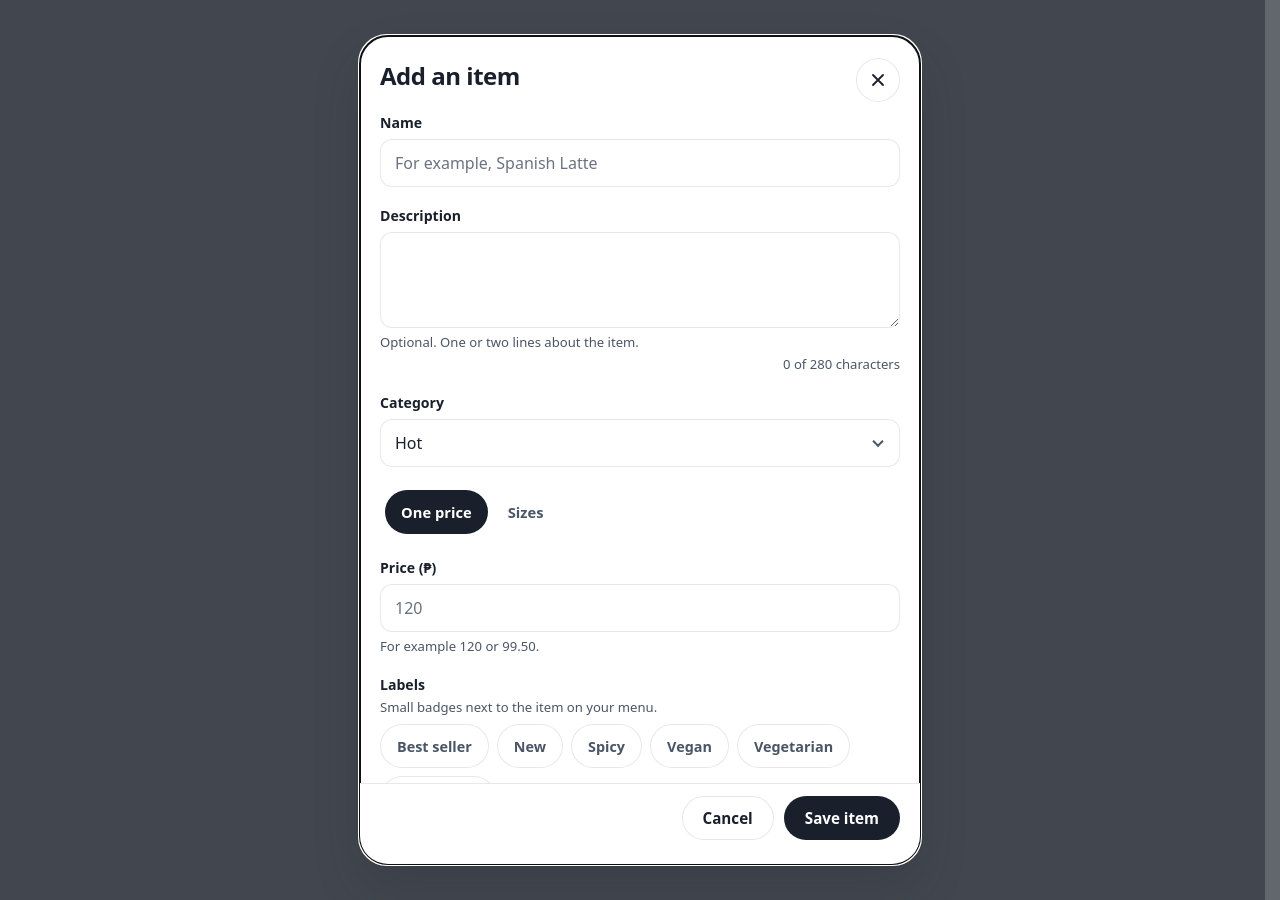
Test: ProductEditor: what it refuses › focuses the price of the size whose price cannot be read, not the first size
In the field labelled "Name": (640, 163) [380, 139, 900, 187], type "Tea"
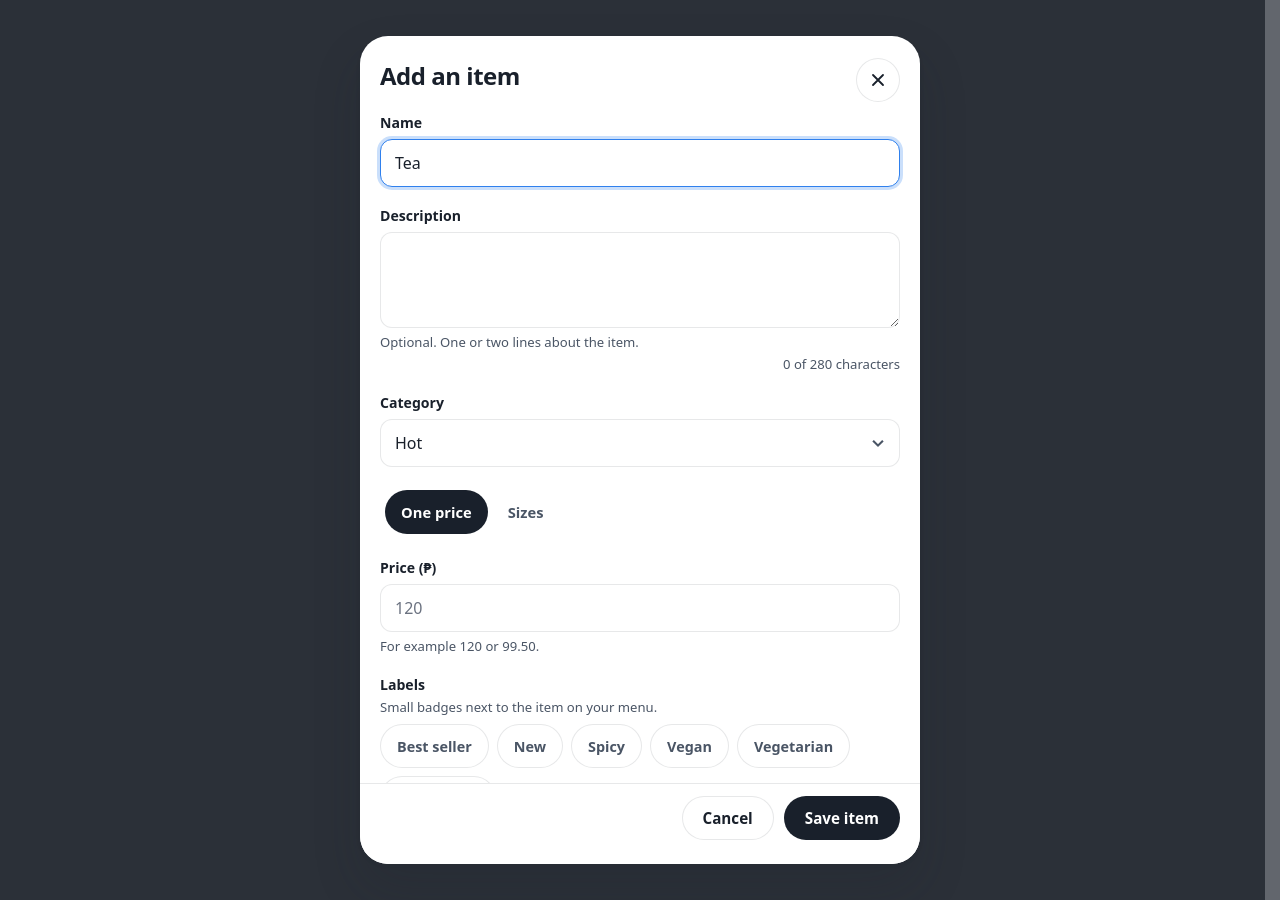
Click the button "Sizes": click(526, 512) [492, 490, 560, 534]
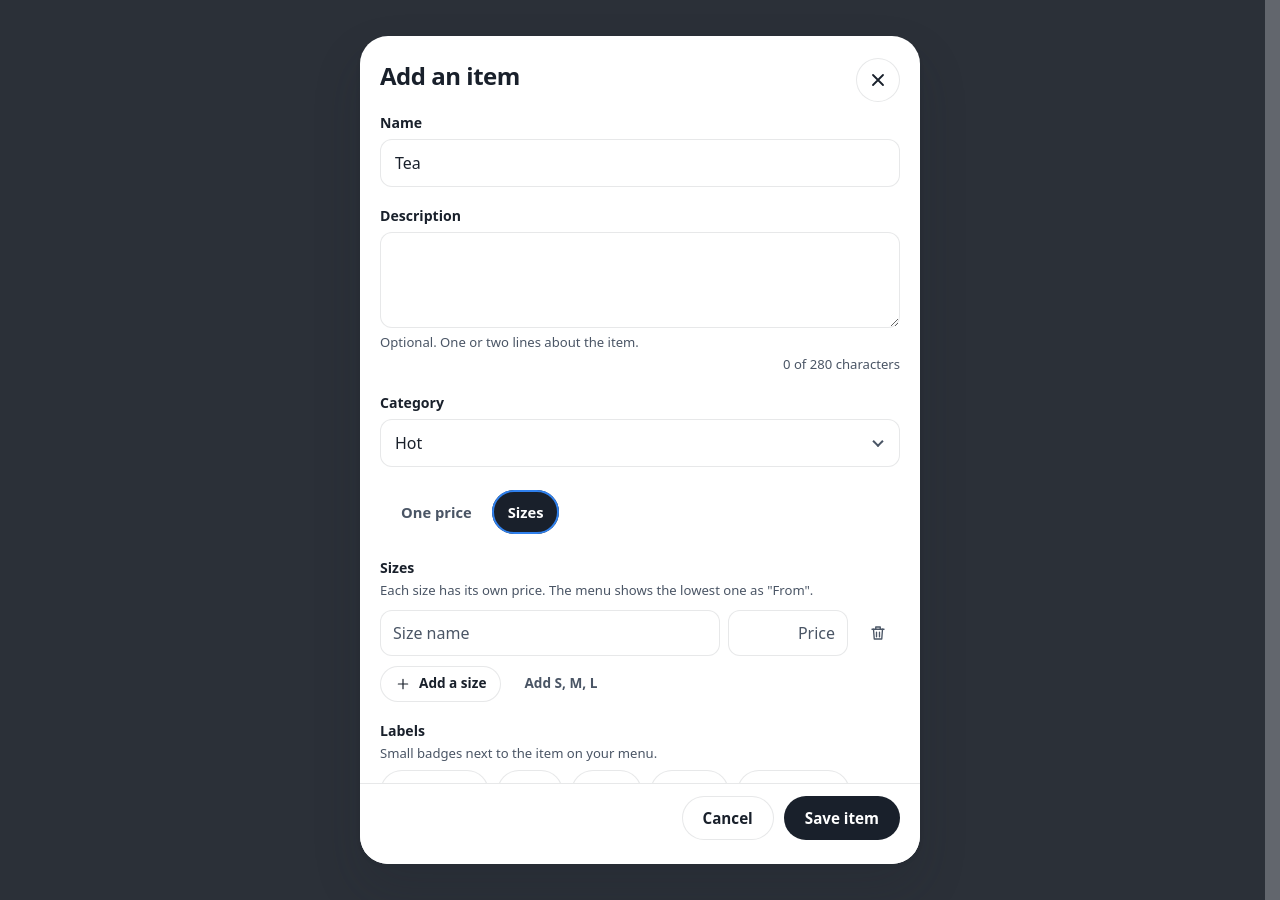
In the field named "Name of size 1": (550, 633) [380, 610, 720, 656], type "S"
In the field named "Price of size 1 (₱)": (788, 633) [728, 610, 848, 656], type "50"
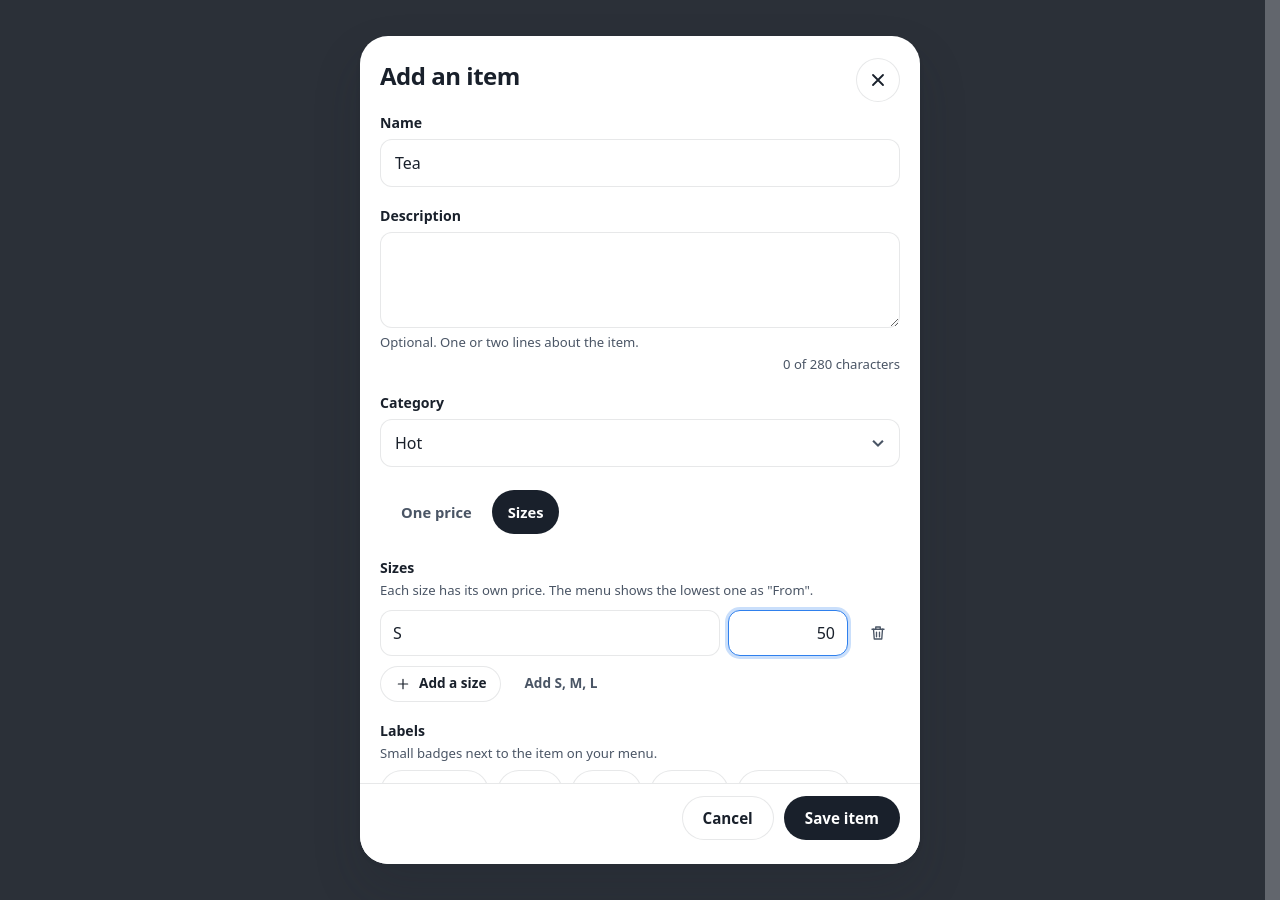
Click the button "Add a size": click(441, 684) [380, 666, 502, 702]
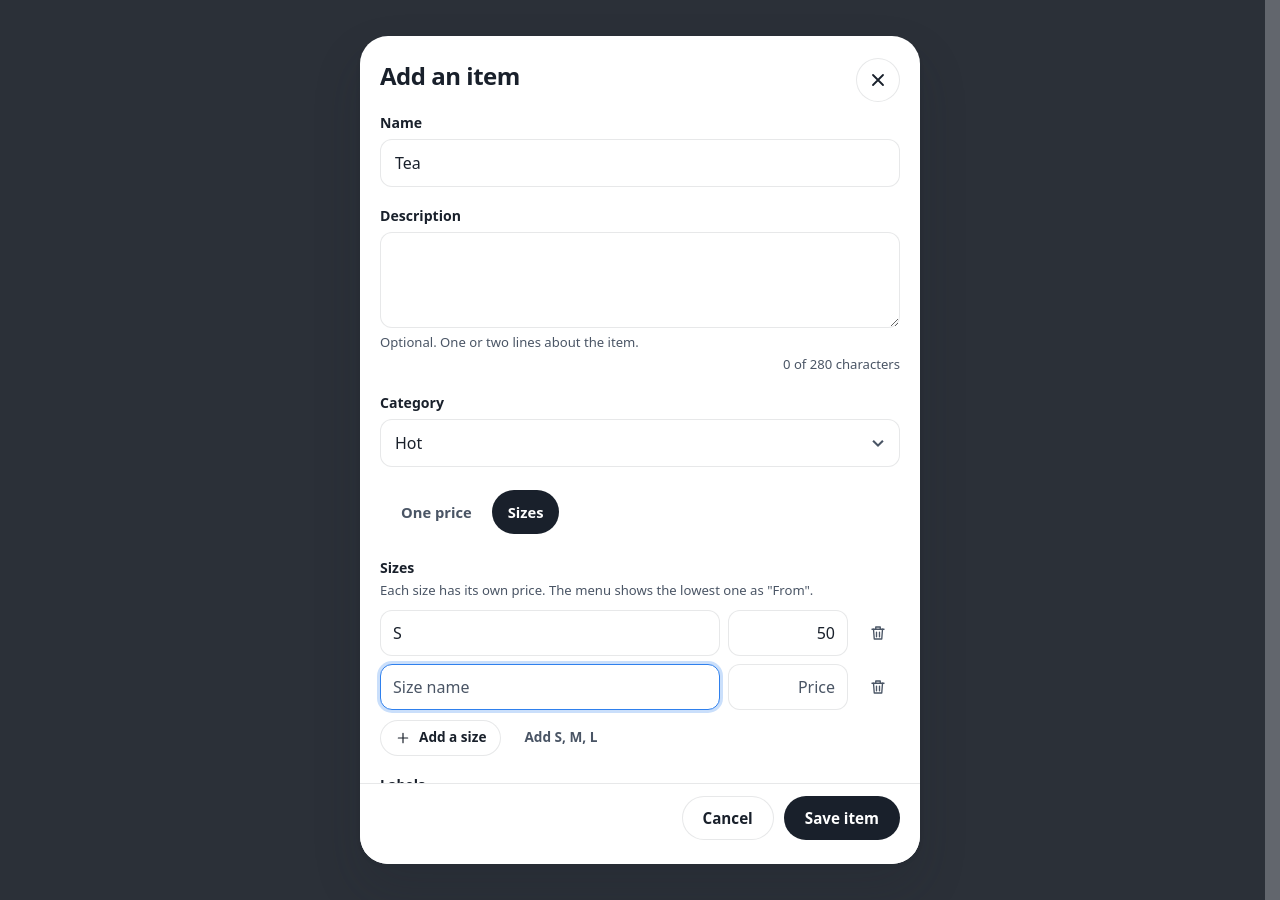
In the field named "Name of size 2": (550, 687) [380, 664, 720, 710], type "L"
In the field named "Price of size 2 (₱)": (788, 687) [728, 664, 848, 710], type "lots"
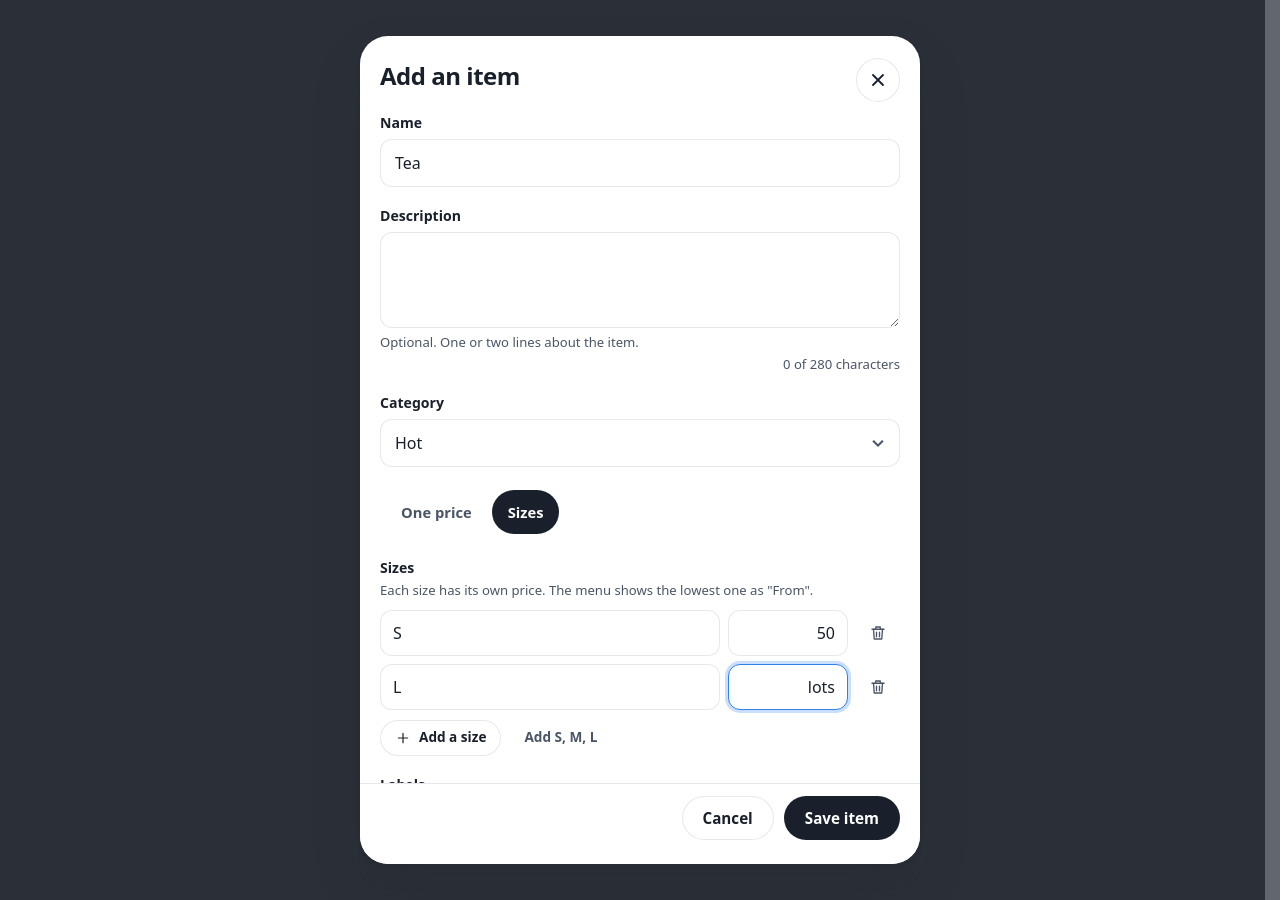
Click the button "Save item": click(842, 818) [784, 796, 900, 840]
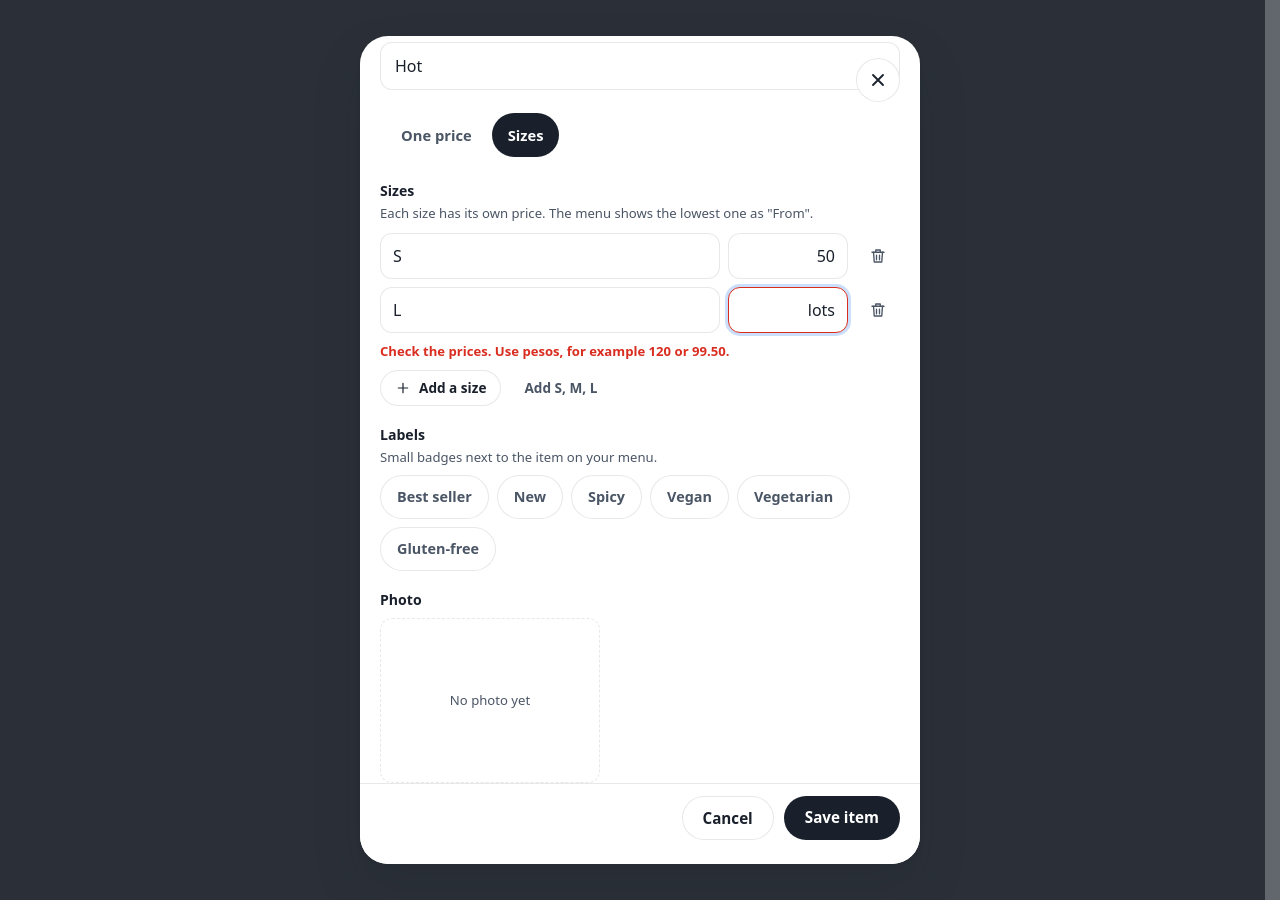
Check: the text "Check the prices. Use pesos, for example 120 or 99.50." is shown, box [380, 342, 730, 360]
